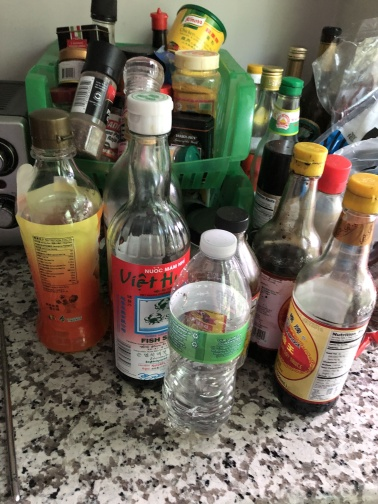bottle: (159, 225, 251, 436)
